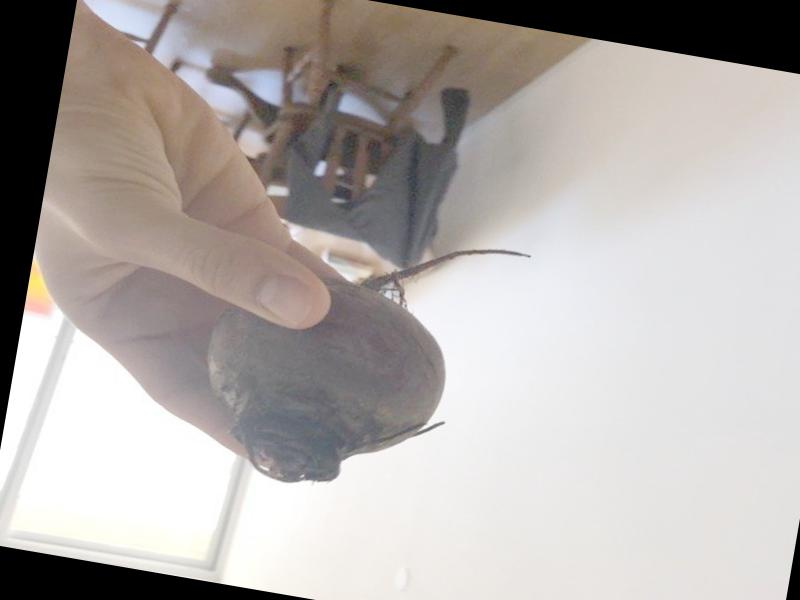Beet: (189, 204, 533, 517)
